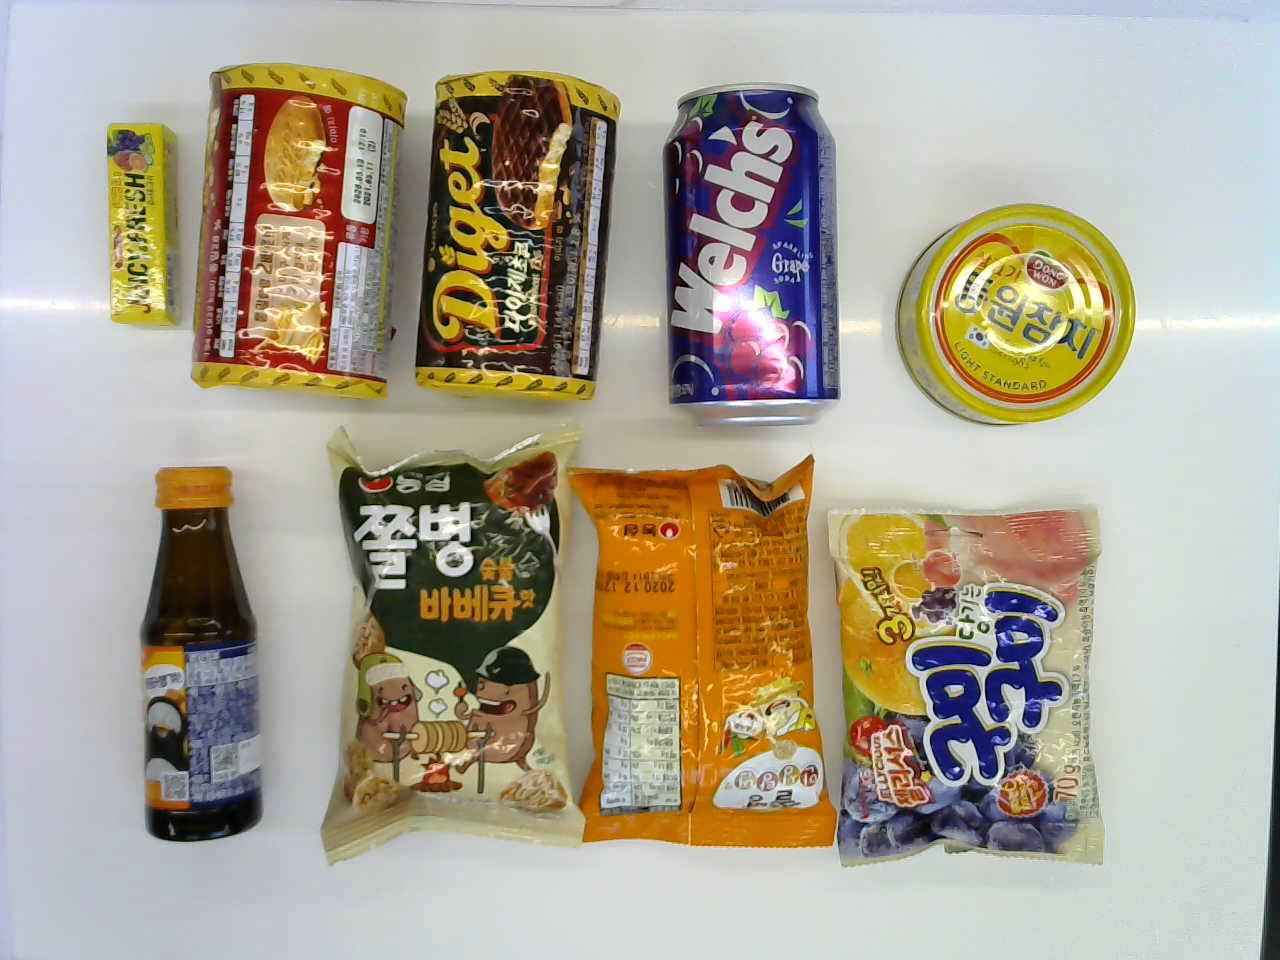diget_choco: (415, 62, 638, 411)
diget_ori: (190, 56, 413, 405)
gumi_gumi: (825, 474, 1113, 895)
jjolbyung_noodle: (571, 443, 826, 864)
jjolbyung_ori: (316, 430, 572, 851)
juicyfresh: (100, 114, 173, 325)
tuna: (909, 198, 1136, 436)
vita500: (75, 455, 297, 856)
welchs: (633, 75, 855, 423)
